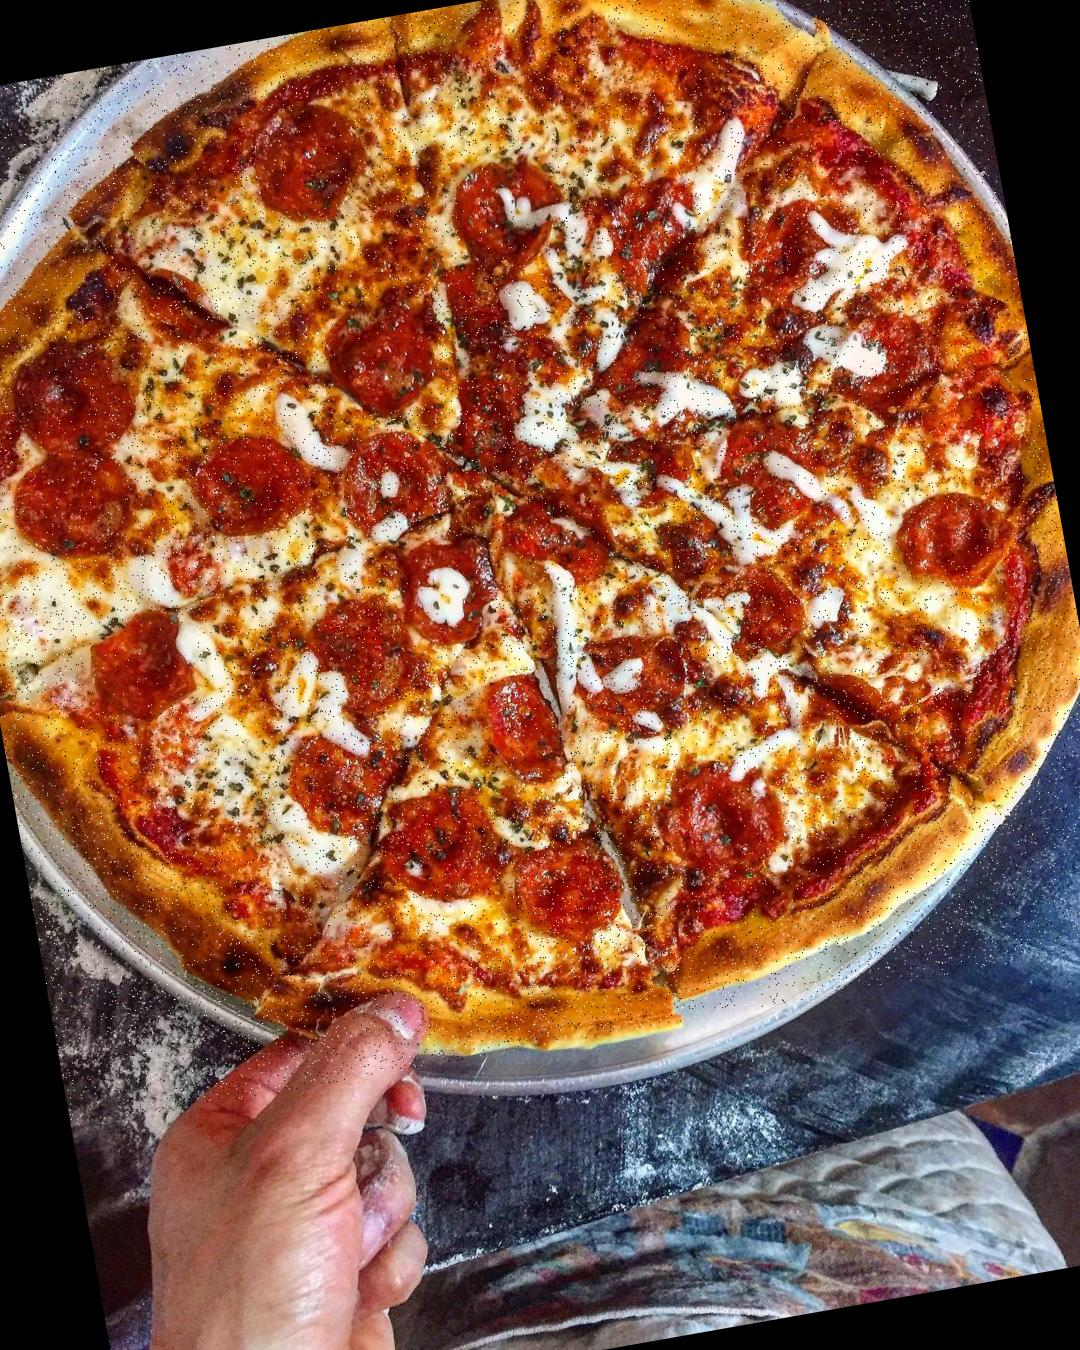Pepperoni: (453, 335, 580, 479), (10, 437, 143, 570), (9, 344, 147, 466), (321, 290, 446, 420), (293, 592, 415, 725), (368, 784, 503, 898), (249, 95, 369, 223), (569, 627, 702, 741), (334, 416, 458, 535), (494, 466, 622, 580), (386, 532, 500, 654), (187, 432, 307, 546), (583, 291, 696, 408), (505, 843, 627, 950), (661, 765, 784, 871), (263, 722, 378, 834), (453, 145, 560, 262), (82, 616, 206, 714), (887, 485, 1004, 587), (725, 405, 828, 519), (700, 560, 802, 660), (476, 670, 562, 788), (446, 265, 514, 362)
Pizza: (0, 0, 1080, 1128)
